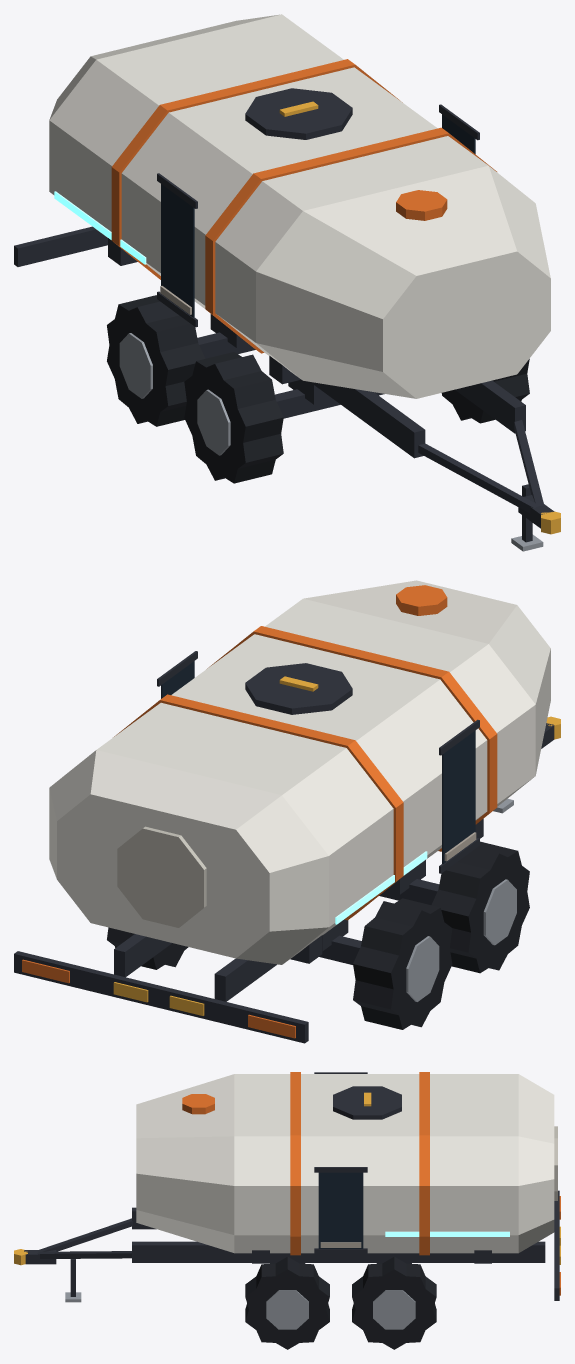
File: vozidlo-prachocuc-privez-4.glb
3 renders of one model, top to bottom at view 1: azimuth 30°, elevation 25°; view 2: azimuth 150°, elevation 25°; view 3: azimuth 270°, elevation 25°, orthographic. The views are drawn at different scales.
Parts seen in each view (by area): view 1: karoserie, kolo_1, kolo_3, kolo_2; view 2: karoserie, kolo_3, kolo_1, kolo_4; view 3: karoserie, kolo_4, kolo_2.
Boxes of the visible parts, x1,y1,x2,y2 form: karoserie: [14, 14, 560, 551]; kolo_1: [184, 352, 283, 483]; kolo_3: [107, 295, 205, 426]; kolo_2: [441, 359, 529, 423]; karoserie: [14, 580, 560, 1043]; kolo_3: [353, 898, 452, 1029]; kolo_1: [431, 841, 529, 973]; kolo_4: [107, 927, 188, 969]; karoserie: [14, 1072, 560, 1302]; kolo_4: [352, 1256, 436, 1349]; kolo_2: [245, 1256, 329, 1349].
Size of the model in its own units: 2.6 by 2.53 by 6.15.
